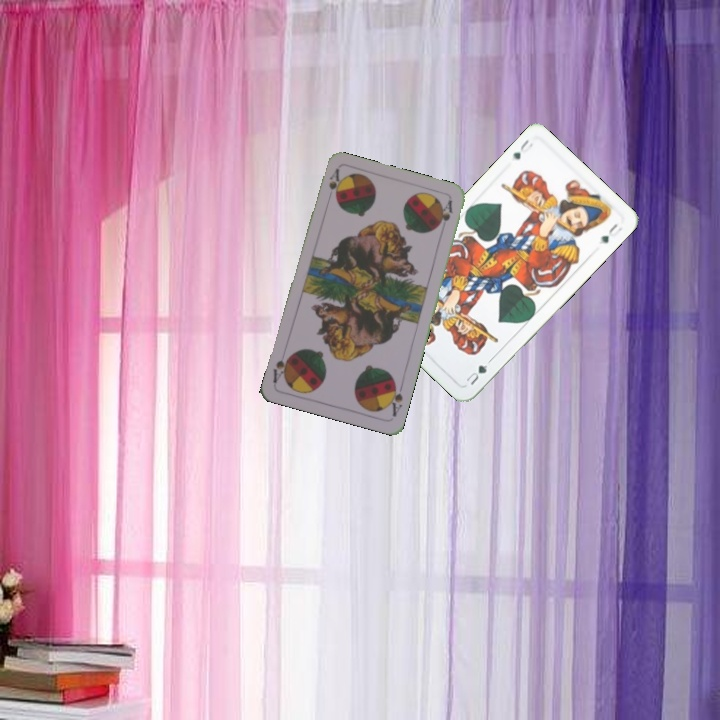GU: (462, 361, 490, 388), (509, 135, 536, 162)
SA: (384, 378, 406, 420), (325, 166, 342, 198)
